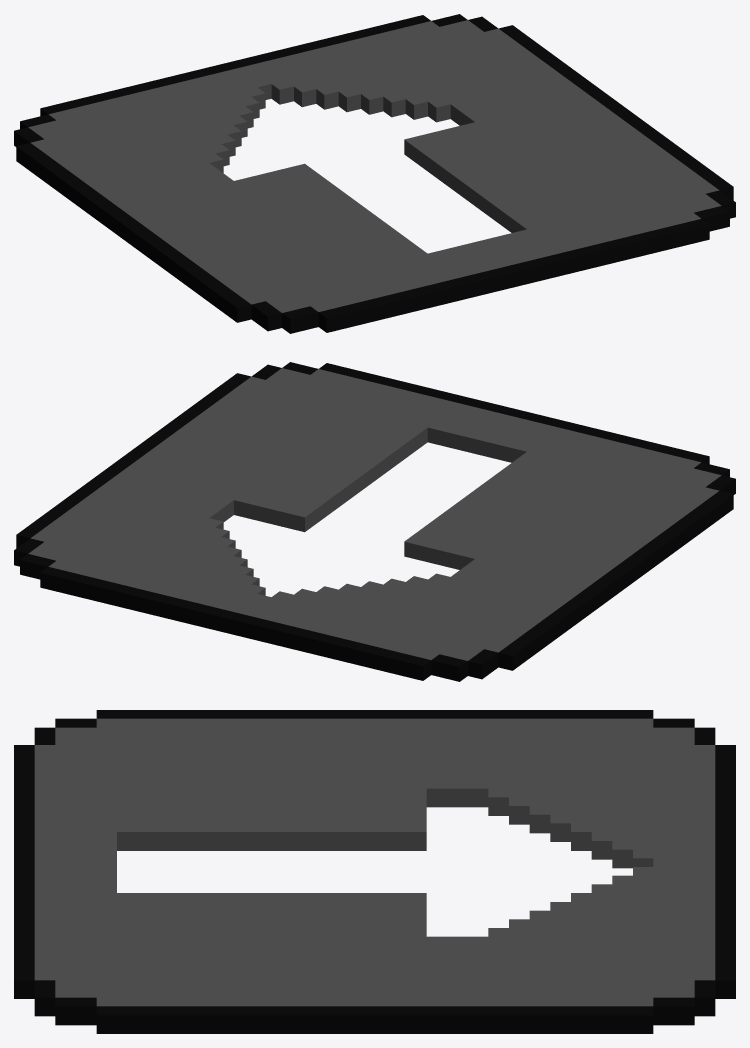
The model's file is panel-0.obj.
The picture shows the model from 3 angles, top to bottom: view 1: azimuth 30°, elevation 25°; view 2: azimuth 150°, elevation 25°; view 3: azimuth 270°, elevation 25°; orthographic projection. The views are drawn at different scales.
Parts seen in each view (by area): view 1: panel-0; view 2: panel-0; view 3: panel-0.
Boxes of the visible parts, x1,y1,x2,y2 form: panel-0: (14, 14, 735, 333); panel-0: (14, 362, 735, 681); panel-0: (14, 710, 735, 1033).
Size of the model in its own units: 35 by 1 by 35.
Materials: 1 (1 with a texture image).
